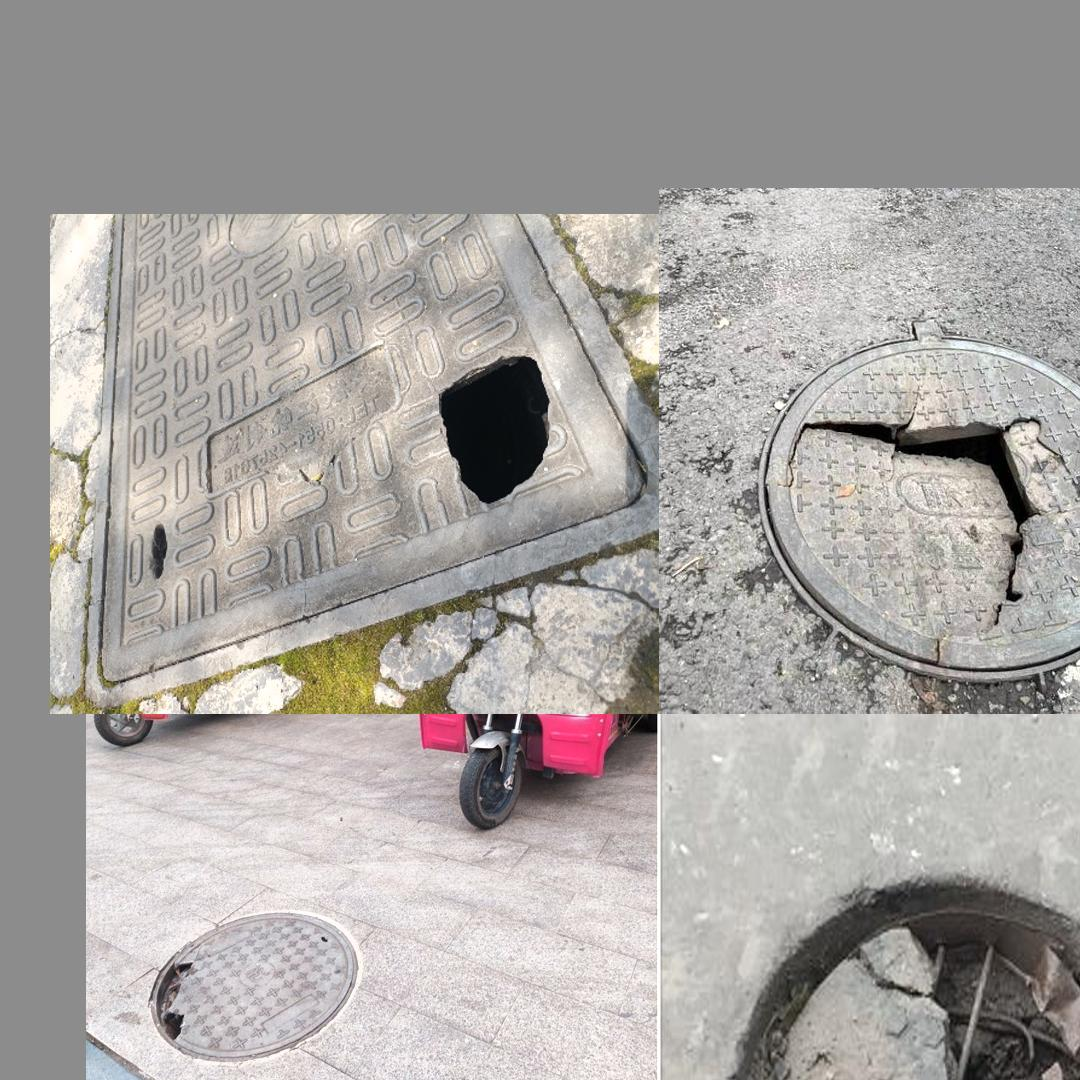broke: (84, 229, 579, 650), (751, 330, 1080, 679), (731, 836, 1080, 1080), (146, 913, 353, 1055)
